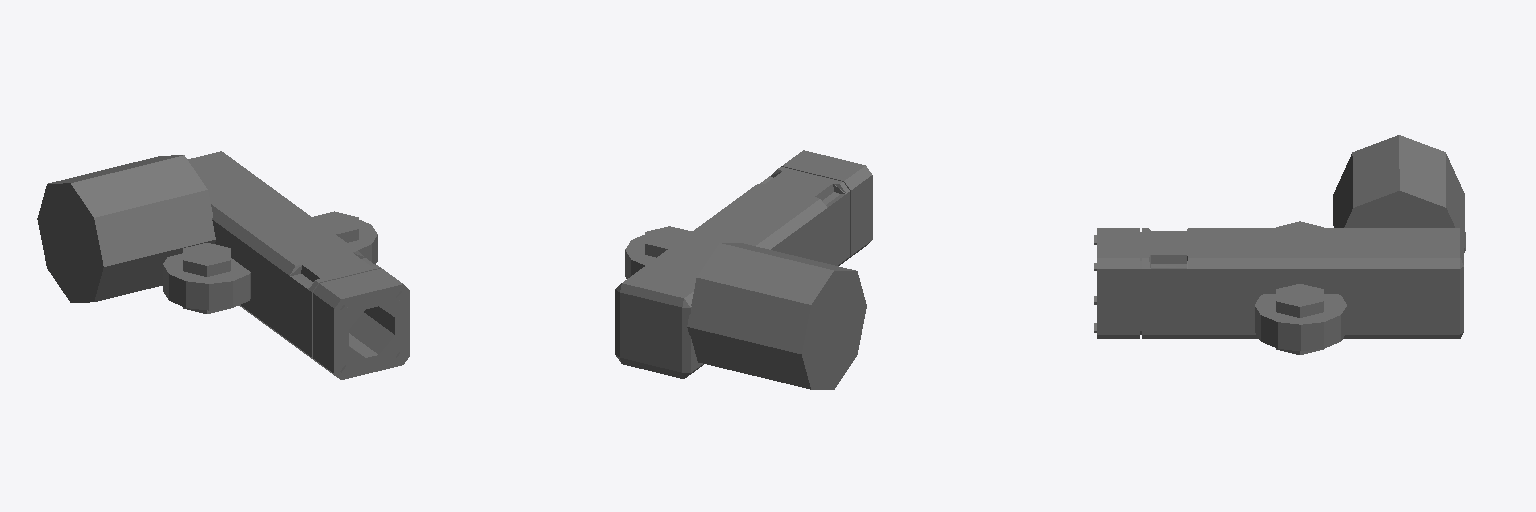
The model's file is Sentry_Turret.obj.
3 views of the same model, side by side, from view 1: azimuth 30°, elevation 25°; view 2: azimuth 150°, elevation 25°; view 3: azimuth 270°, elevation 25° (orthographic).
Parts seen in each view (by area): view 1: polySurface54; view 2: polySurface54; view 3: polySurface54.
Boxes of the visible parts, <box> form: polySurface54: <box>37,151,409,379</box>; polySurface54: <box>615,150,872,389</box>; polySurface54: <box>1094,135,1465,354</box>.
Size of the model in its own units: 0.2382 by 0.1078 by 0.3036.